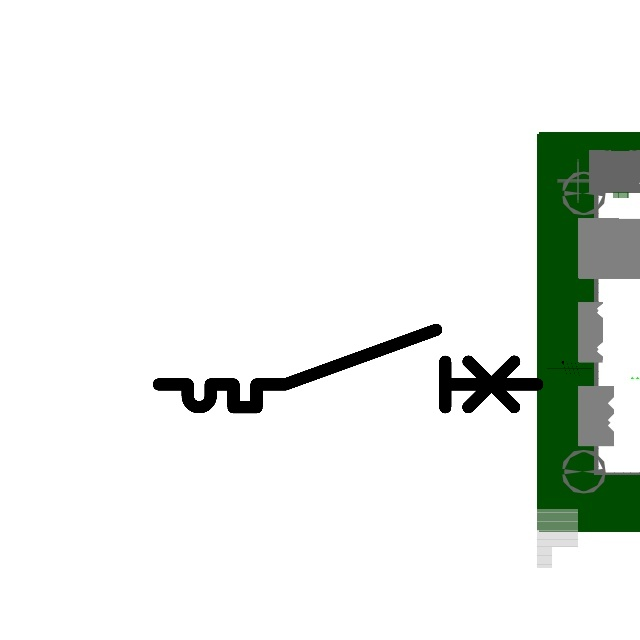interruptor_termomagnetico: (149, 320, 547, 417)
